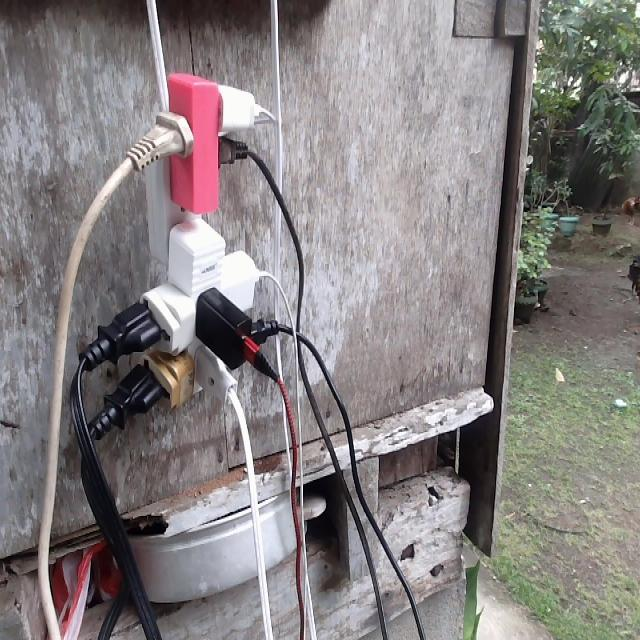-: (82, 71, 287, 417)
